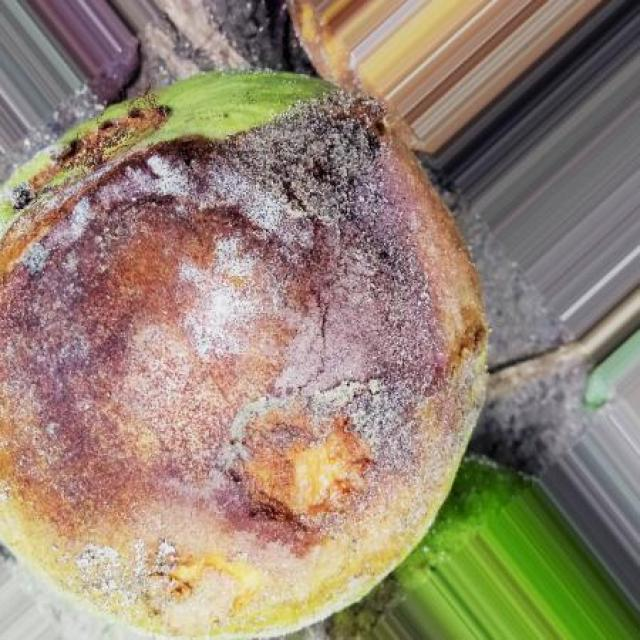Styler and Root: (0, 94, 485, 636)
